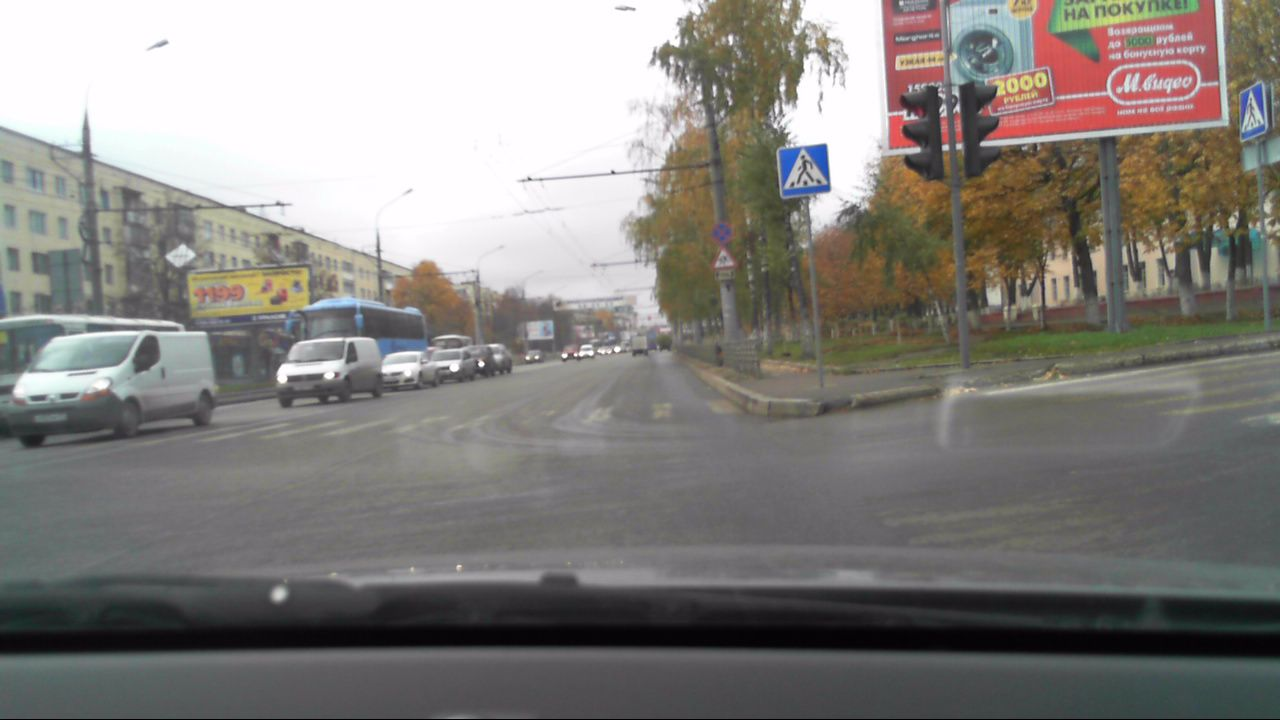No Parking: (707, 221, 734, 245)
